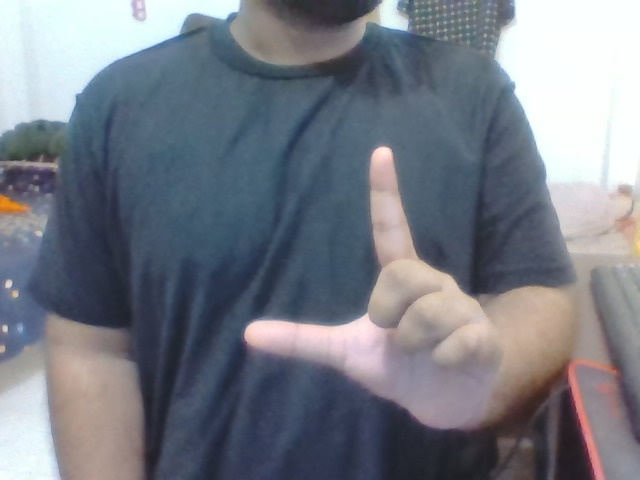L: (229, 137, 512, 438)
